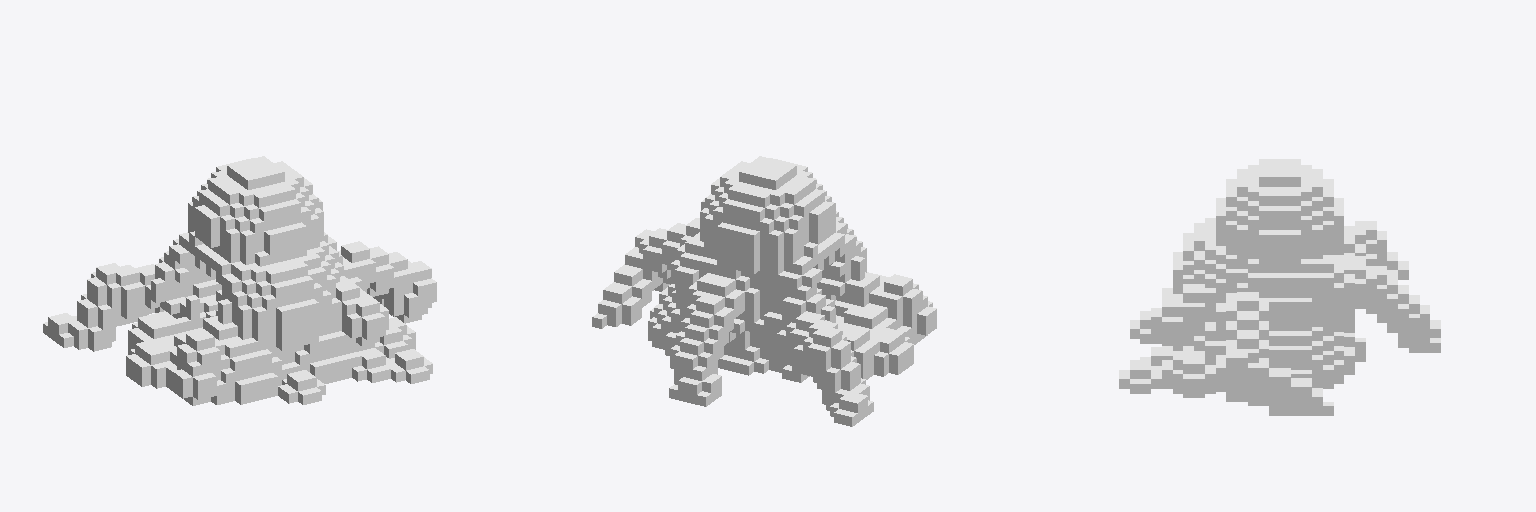
The model's file is generation_of_chaos_1.obj.
3 renders of one model, left to right at view 1: azimuth 30°, elevation 25°; view 2: azimuth 150°, elevation 25°; view 3: azimuth 270°, elevation 25°, orthographic.
Parts seen in each view (by area): view 1: object 1; view 2: object 1; view 3: object 1.
Boxes of the visible parts, <box> form: object 1: <box>43,156,436,405</box>; object 1: <box>592,156,936,426</box>; object 1: <box>1119,159,1440,415</box>.
Size of the model in its own units: 3.2 by 1.8 by 3.